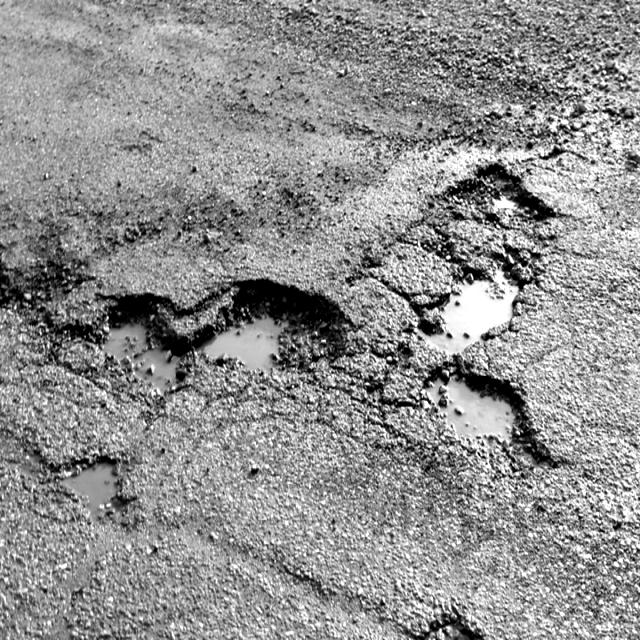pathole: (0, 94, 624, 521)
